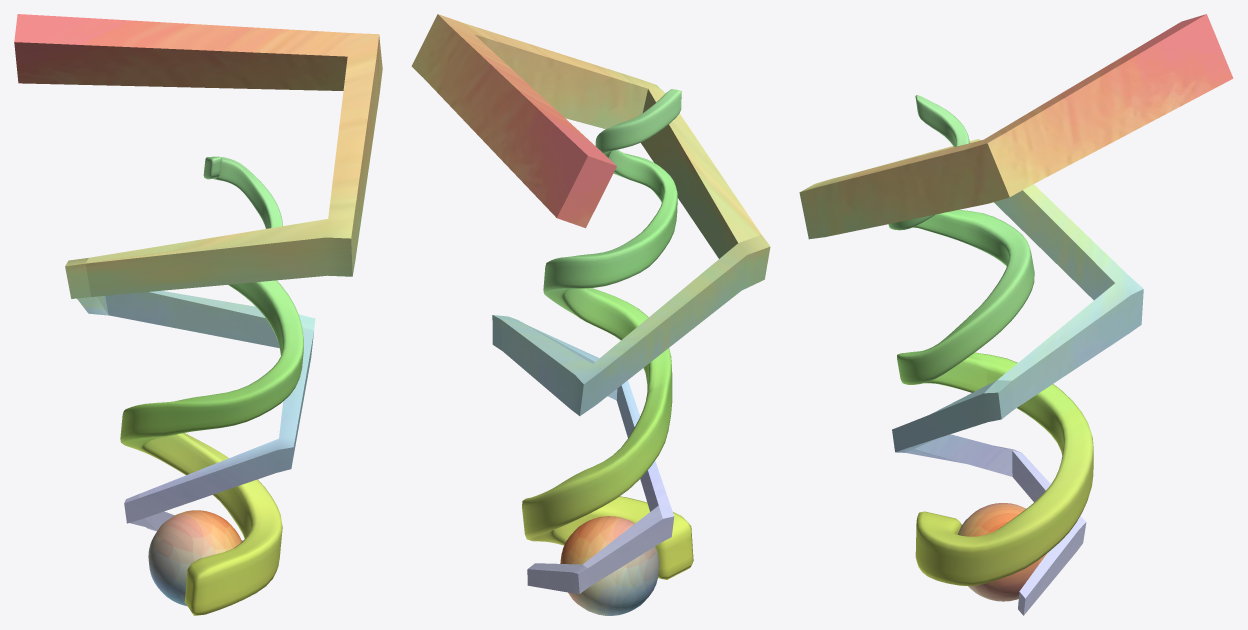
The picture shows the model from 3 angles, left to right: view 1: azimuth 30°, elevation 25°; view 2: azimuth 150°, elevation 25°; view 3: azimuth 270°, elevation 25°; orthographic projection. The views are drawn at different scales.
Visible parts, largest first — view 1: 1, 2.001, 3; view 2: 1, 2.001, 3; view 3: 1, 2.001, 3.
Boxes of the visible parts, x1,y1,x2,y2 form: 1: [14, 14, 382, 541]; 2.001: [120, 156, 303, 615]; 3: [148, 510, 241, 606]; 1: [411, 14, 770, 593]; 2.001: [522, 89, 693, 579]; 3: [560, 516, 659, 615]; 1: [799, 14, 1233, 615]; 2.001: [888, 95, 1093, 585]; 3: [957, 503, 1046, 601].
Size of the model in its own units: 11.57 by 17.75 by 12.84.
Materials: 3 (3 with a texture image).
